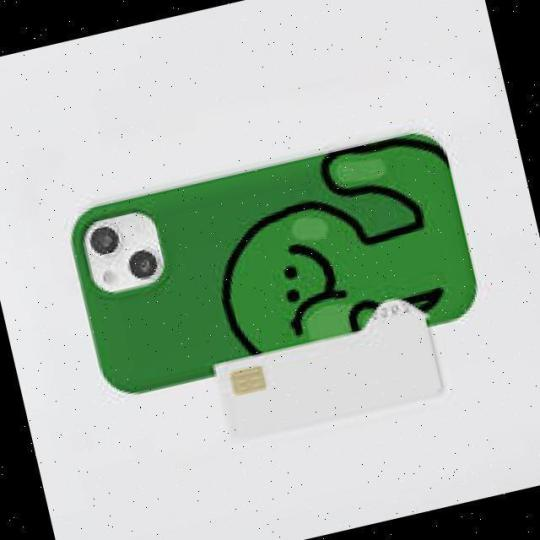phone: (75, 129, 508, 393)
